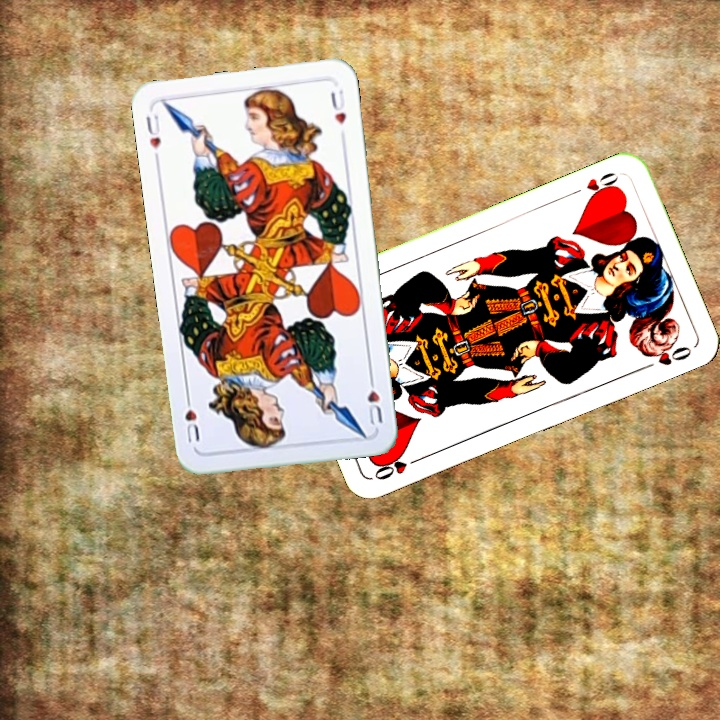HO: (567, 168, 621, 202), (370, 452, 427, 483)
HU: (363, 370, 385, 428), (141, 111, 164, 151)
